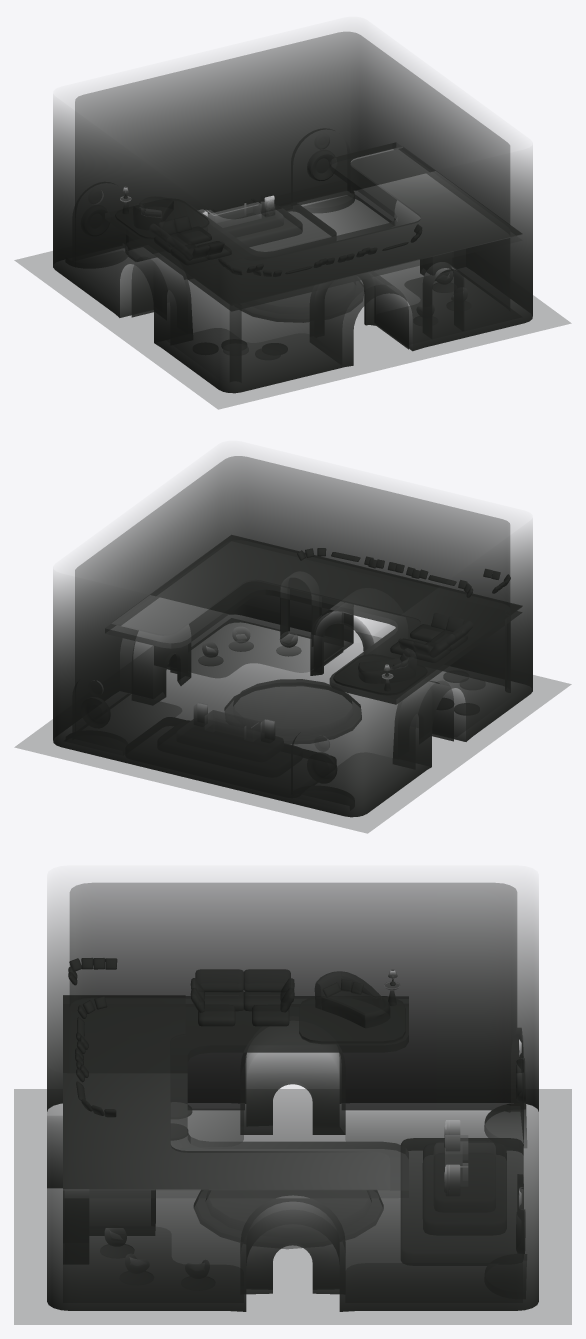
Rendered from clubGrunge.glb.
The picture shows the model from 3 angles, top to bottom: view 1: azimuth 30°, elevation 25°; view 2: azimuth 150°, elevation 25°; view 3: azimuth 270°, elevation 25°; orthographic projection. The views are drawn at different scales.
Parts seen in each view (by area): view 1: Walls.003, Walls.002, MezzRug.001, floor-mezz.001, Floor3.001, screen.006, Entrance.007, Entrance.009, sofa-067.001, DanceFloor.003, InnerCornersSpeakers.003, Entrance.002 (+10 smaller); view 2: Walls.003, Walls.002, floor-mezz.001, MezzRug.001, Floor3.001, DanceFloor.003, screen.006, InnerCorners.002, Entrance.007, Entrance.003, Entrance.009, sofa-067.001 (+10 smaller); view 3: Walls.003, Walls.002, Floor3.001, MezzRug.001, floor-mezz.001, screen.006, Entrance.007, Entrance.003, DanceFloor.003, sofa-067.001, Cube.002, sofa.001 (+9 smaller).
Boxes of the visible parts, left/top/right/bottom form: Walls.003: left=53, top=56, right=532, bottom=393; Walls.002: left=72, top=32, right=509, bottom=298; MezzRug.001: left=187, top=147, right=521, bottom=304; floor-mezz.001: left=105, top=142, right=514, bottom=311; Floor3.001: left=14, top=203, right=570, bottom=409; screen.006: left=125, top=198, right=336, bottom=279; Entrance.007: left=120, top=255, right=192, bottom=335; Entrance.009: left=310, top=276, right=408, bottom=349; sofa-067.001: left=149, top=215, right=231, bottom=264; DanceFloor.003: left=241, top=280, right=363, bottom=322; InnerCornersSpeakers.003: left=123, top=195, right=393, bottom=272; Entrance.002: left=373, top=281, right=412, bottom=350; Walls.003: left=53, top=480, right=532, bottom=817; Walls.002: left=73, top=456, right=509, bottom=767; floor-mezz.001: left=105, top=565, right=522, bottom=704; MezzRug.001: left=116, top=535, right=521, bottom=638; Floor3.001: left=15, top=631, right=571, bottom=833; DanceFloor.003: left=224, top=679, right=361, bottom=743; screen.006: left=137, top=710, right=336, bottom=773; InnerCorners.002: left=191, top=618, right=310, bottom=677; Entrance.007: left=393, top=679, right=465, bottom=759; Entrance.003: left=131, top=632, right=191, bottom=700; Entrance.009: left=310, top=609, right=395, bottom=675; sofa-067.001: left=390, top=613, right=473, bottom=662; Walls.003: left=47, top=896, right=538, bottom=1311; Walls.002: left=69, top=883, right=523, bottom=1210; Floor3.001: left=14, top=1089, right=571, bottom=1324; MezzRug.001: left=63, top=995, right=389, bottom=1189; floor-mezz.001: left=63, top=996, right=408, bottom=1190; screen.006: left=401, top=1135, right=523, bottom=1262; Entrance.007: left=240, top=1052, right=345, bottom=1134; Entrance.003: left=241, top=1205, right=344, bottom=1294; DanceFloor.003: left=194, top=1190, right=383, bottom=1248; sofa-067.001: left=190, top=969, right=294, bottom=1026; Cube.002: left=299, top=996, right=405, bottom=1043; sofa.001: left=314, top=971, right=390, bottom=1028.
Size of the model in its own units: 32 by 15.69 by 32.
Materials: 1 (1 with a texture image).
